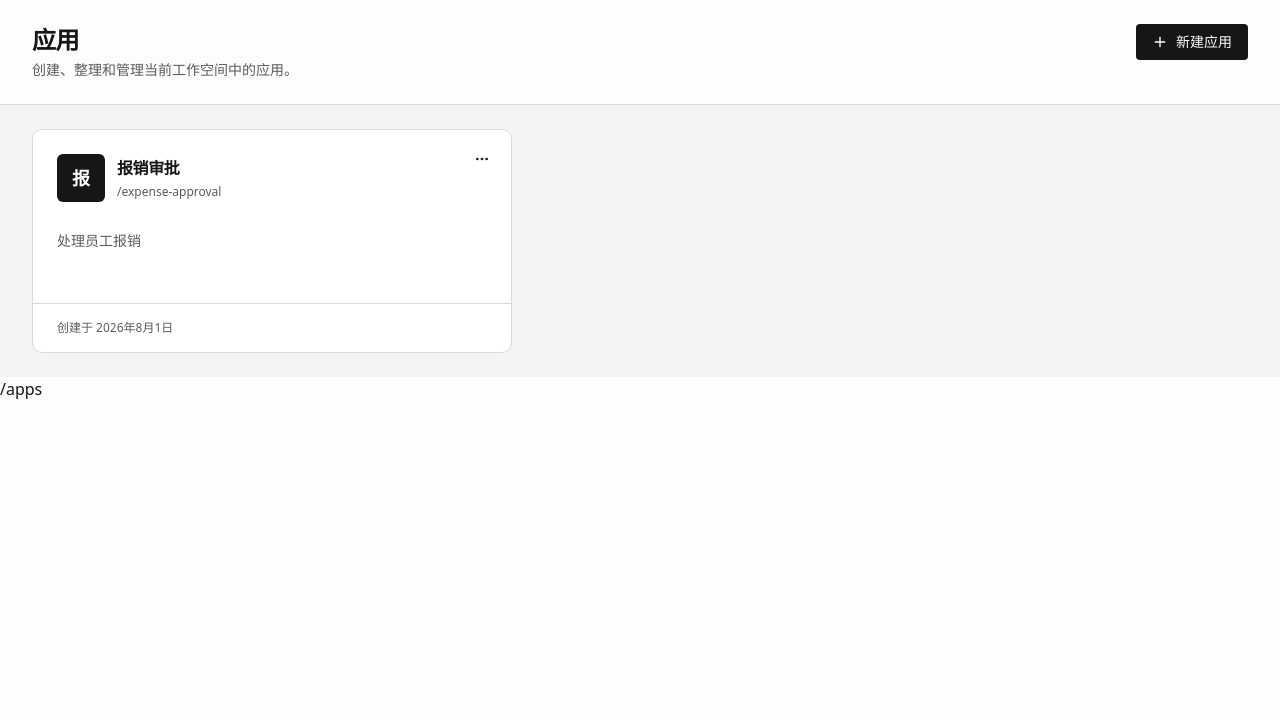
Test case: app management › keeps the app visible when active Agent work blocks deletion
The image size is (1280, 720).
Step 1. Press Enter in the button named "操作应用「报销审批」", box [464,141,500,177]
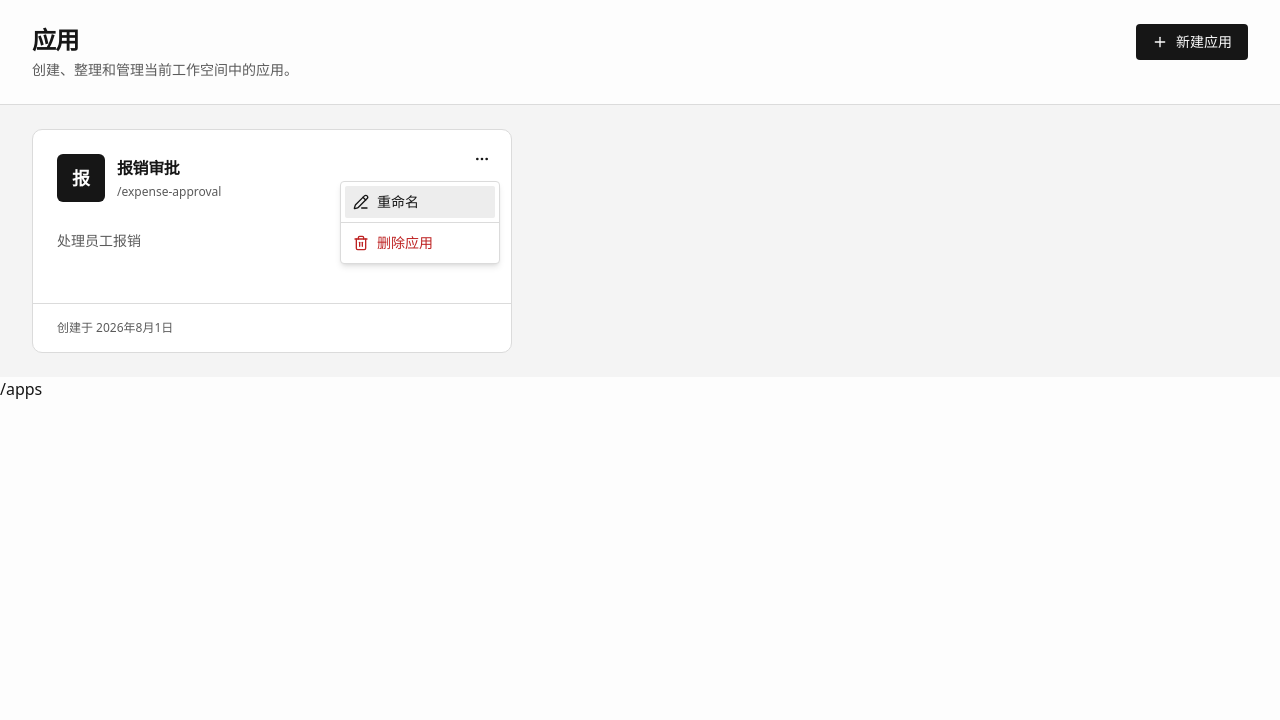
Step 2. Click the menu item "删除应用" → (393, 242), box [353,233,433,252]
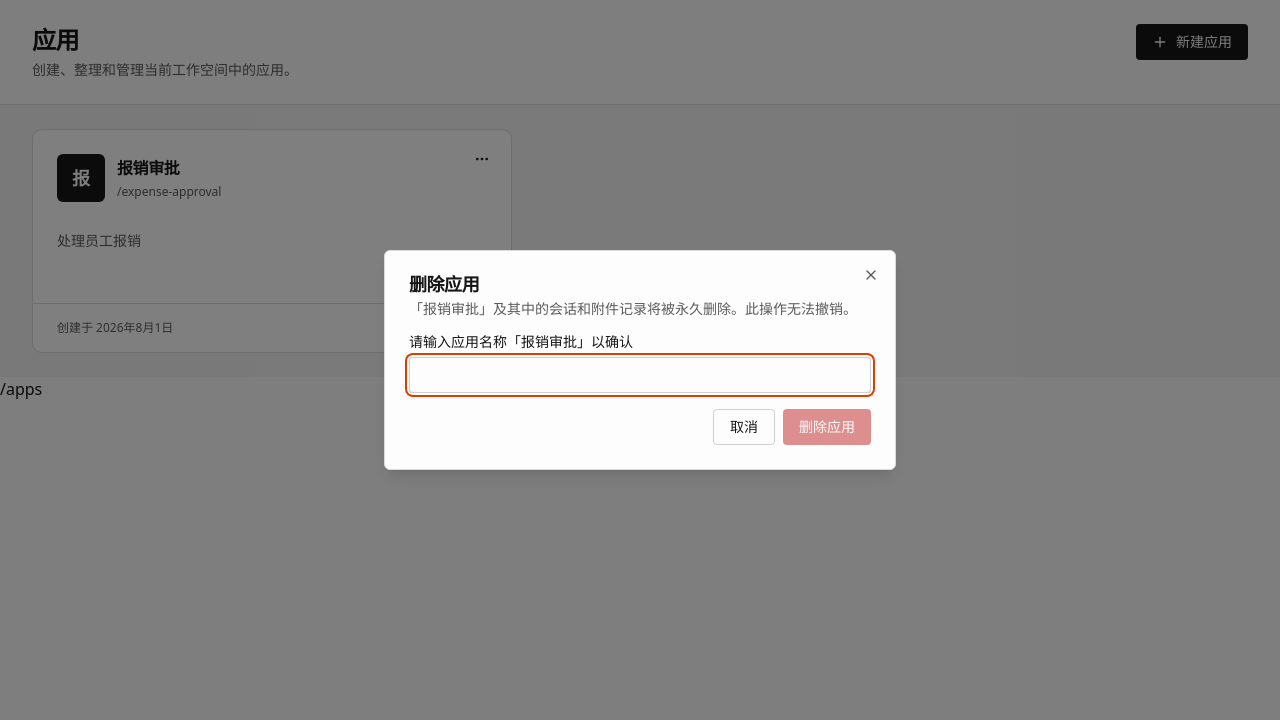
Step 3. Type "报销审批" into the field with test id "delete-app-confirmation" → (640, 375), box [409,357,871,393]
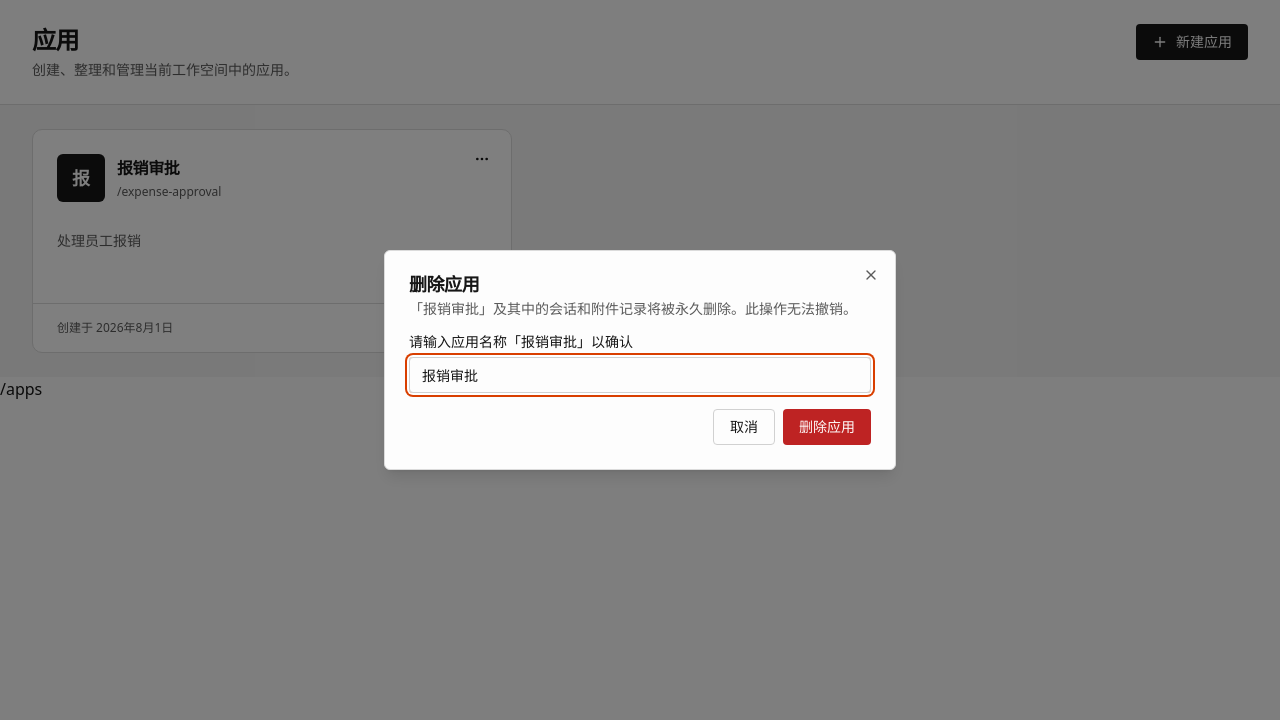
Step 4. Click the button with test id "delete-app-submit" → (827, 427), box [783,409,871,445]
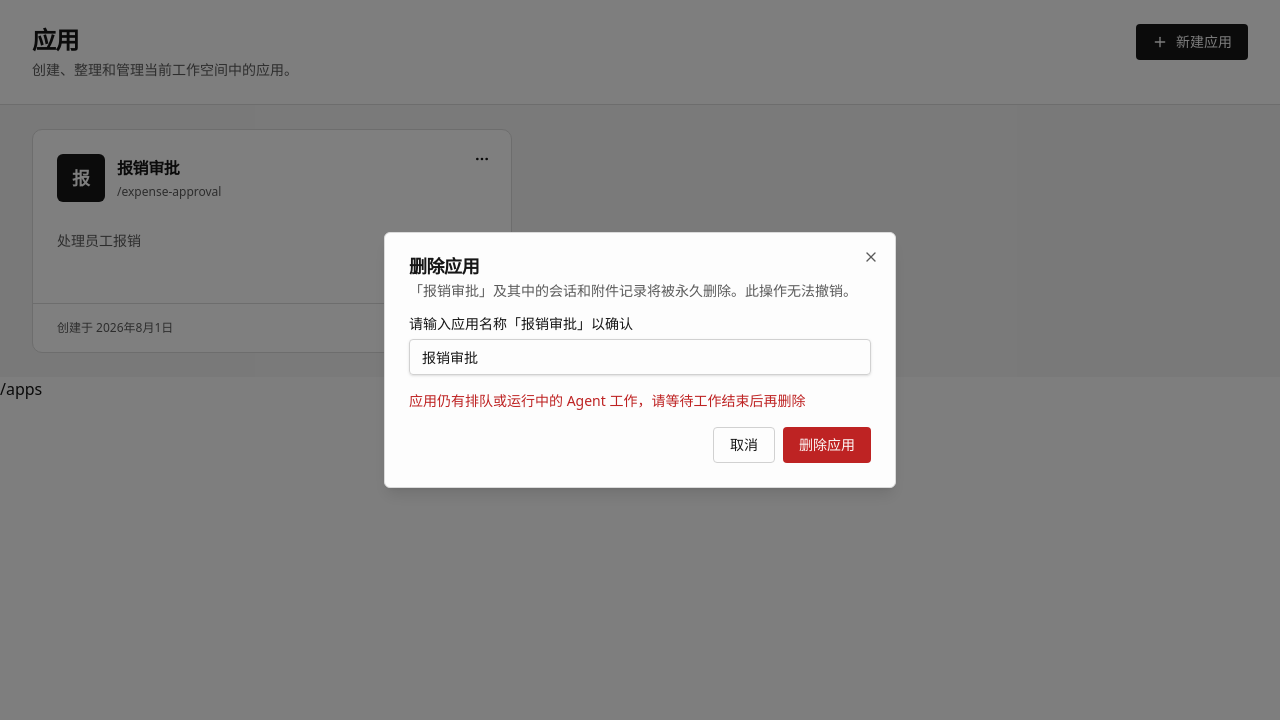
Check: the element with test id "app-card" is shown, box [32,129,512,353]
Check: the message shows "应用仍有排队或运行中的 Agent 工作", box [409,391,805,410]
